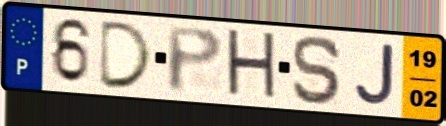6: (48, 17, 93, 87)
D: (96, 19, 156, 91)
H: (224, 26, 280, 105)
J: (353, 42, 396, 109)
P: (165, 24, 226, 96)
S: (290, 33, 345, 107)
